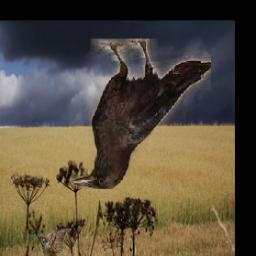Crow: (72, 39, 212, 189)
Sparrow: (36, 229, 72, 256)
